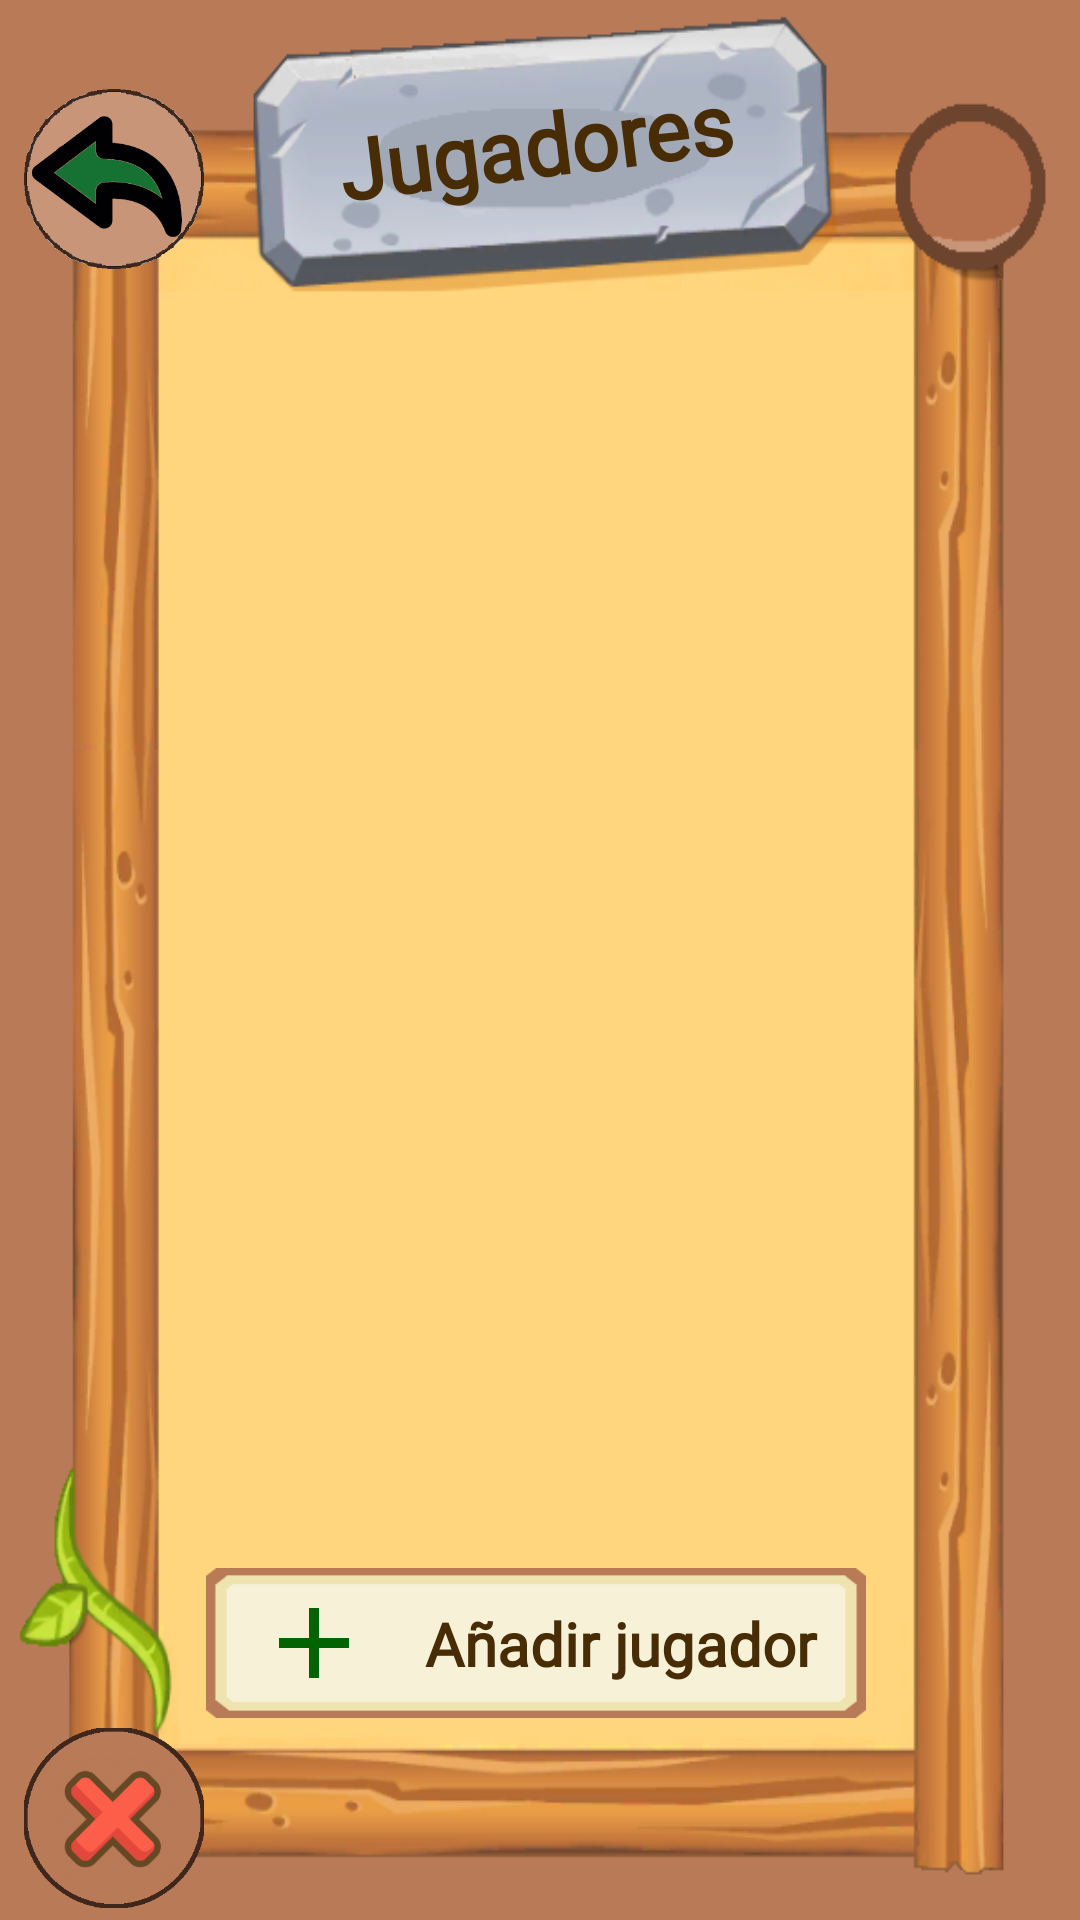

Icon click points for this 1080×1920 phone screenshot, format (x,y):
back: (114,179)
cerrar: (113,1819)
